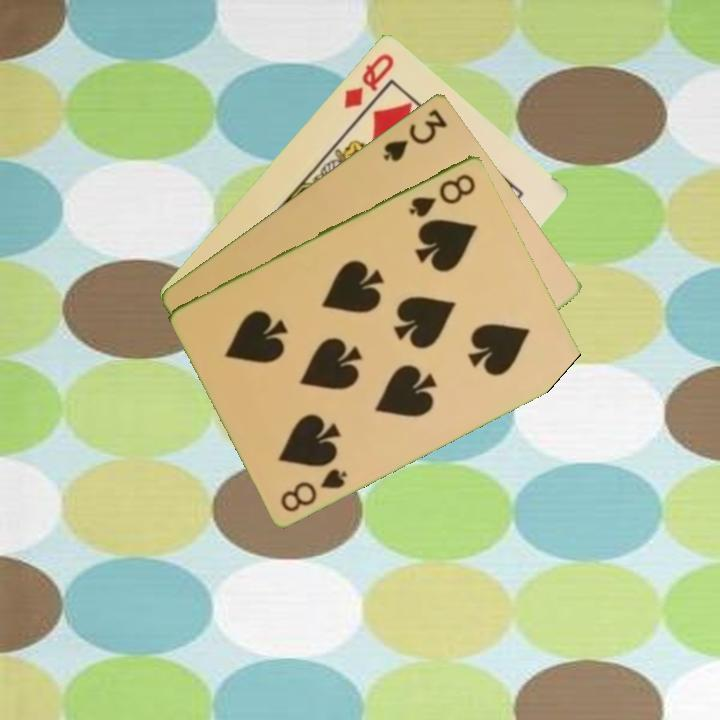3s: (379, 104, 451, 164)
8s: (277, 464, 351, 515), (406, 169, 479, 220)
Qd: (340, 49, 397, 111)
